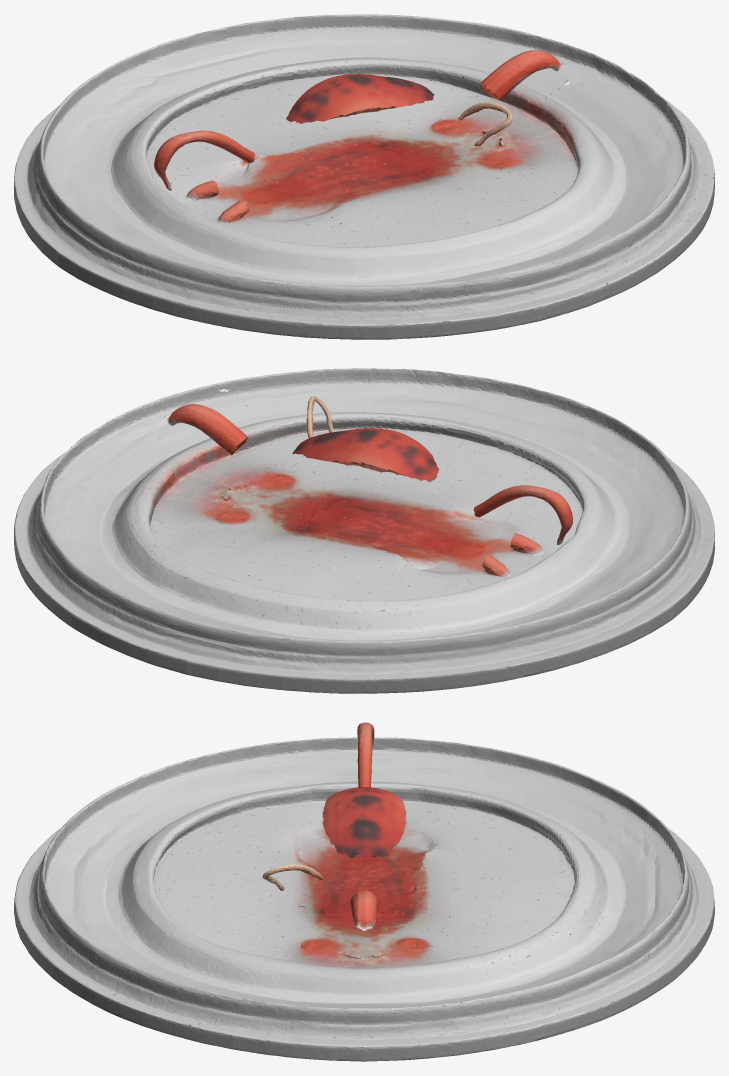
Rendered from seafood.glb.
3 renders of one model, top to bottom at view 1: azimuth 30°, elevation 25°; view 2: azimuth 150°, elevation 25°; view 3: azimuth 270°, elevation 25°, orthographic.
Visible parts, largest first — view 1: world; view 2: world; view 3: world.
Part boxes in pixels (left/top/right/bottom): world: left=14, top=14, right=714, bottom=339; world: left=14, top=368, right=714, bottom=693; world: left=14, top=722, right=714, bottom=1061.
Bounding box in the file's own units: 0.9955 × 0.1799 × 0.9934.
1 material, 1 textured.
